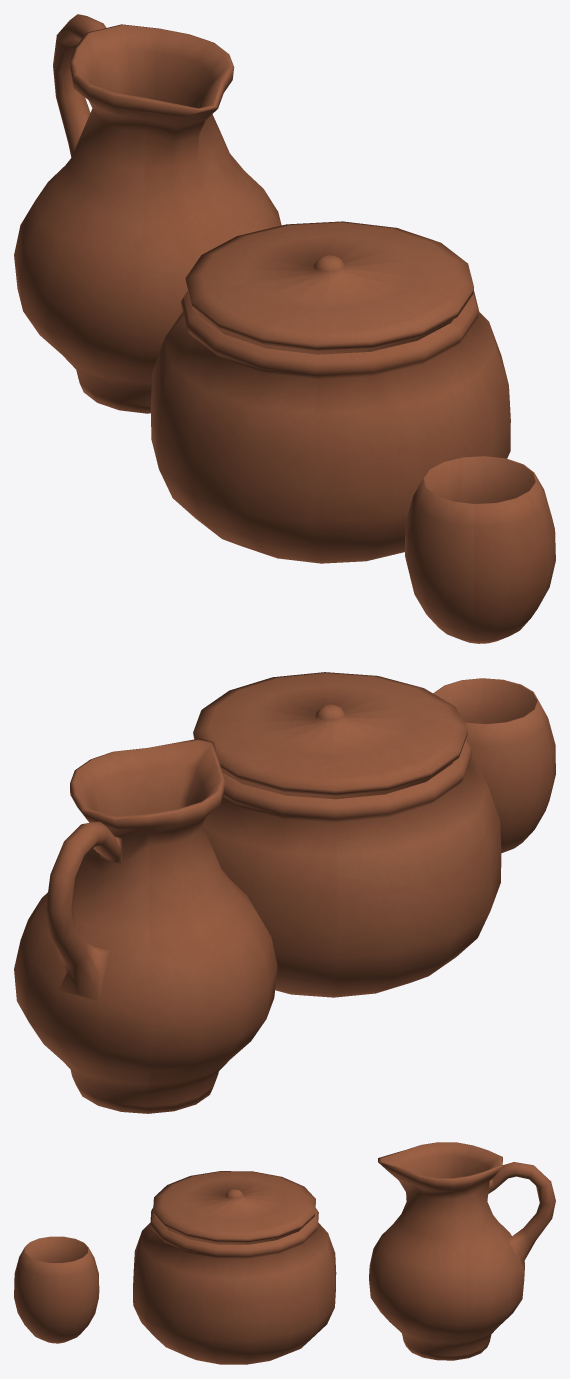
The model's file is Ollas,3.fbx.
3 views of the same model, one above another, from view 1: azimuth 30°, elevation 25°; view 2: azimuth 150°, elevation 25°; view 3: azimuth 270°, elevation 25° (orthographic). The views are drawn at different scales.
Parts seen in each view (by area): view 1: Ollas.003; view 2: Ollas.003; view 3: Ollas.003.
Part boxes in pixels (x1=…): Ollas.003: x1=14, y1=14, x2=555, y2=643; Ollas.003: x1=14, y1=672, x2=555, y2=1113; Ollas.003: x1=14, y1=1142, x2=555, y2=1364.
Bounding box in the file's own units: 0.3356 × 0.3338 × 0.8951.
